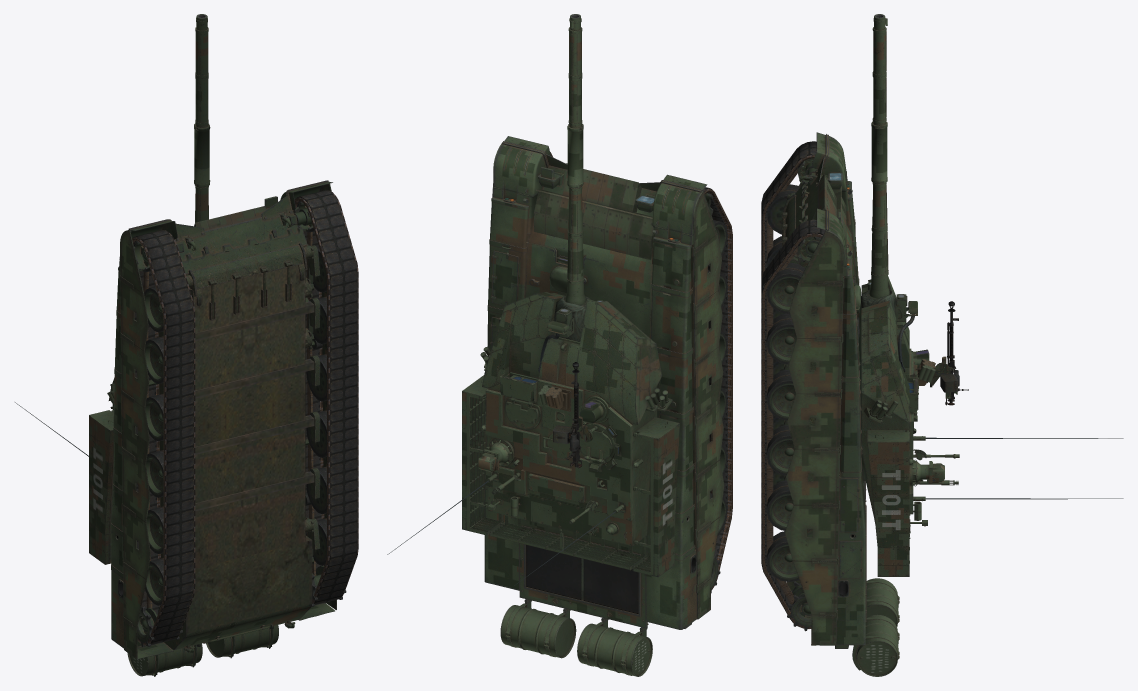
The model's file is ZTZ99A1.fbx.
3 renders of one model, left to right at view 1: azimuth 30°, elevation 25°; view 2: azimuth 150°, elevation 25°; view 3: azimuth 270°, elevation 25°, orthographic. The views are drawn at different scales.
Visible parts, largest first — view 1: body, lvdai_L, lvdai_R, qunban, lun, paota, paoguan, fuel; view 2: paota, body, qunban, fuel, paoguan, lvdai_R, lun, jiqiang, yanwu; view 3: qunban, paota, body, lun, lvdai_L, paoguan, fuel, lvdai_R, jiqiang.
Boxes of the visible parts, x1,y1,x2,y2 form: body: (111,180,334,676); lvdai_L: (293,190,358,604); lvdai_R: (132,230,195,645); qunban: (120,181,336,658); lun: (134,201,346,647); paota: (15,377,114,564); paoguan: (194,14,210,222); fuel: (127,625,278,676); paota: (387,291,679,585); body: (484,136,707,636); qunban: (493,142,724,619); fuel: (500,603,652,676); paoguan: (565,14,585,304); lvdai_R: (703,187,732,589); lun: (705,193,727,593); jiqiang: (553,362,582,468); yanwu: (538,384,571,411); qunban: (785,136,846,645); paota: (859,276,1123,576); body: (781,132,866,670); lun: (766,158,821,631); lvdai_L: (761,219,825,628); paoguan: (869,14,889,298); fuel: (856,578,899,676); lvdai_R: (761,141,816,531); jiqiang: (940,301,968,405).
Bounding box in the file's own units: 350 × 556 × 1067.
